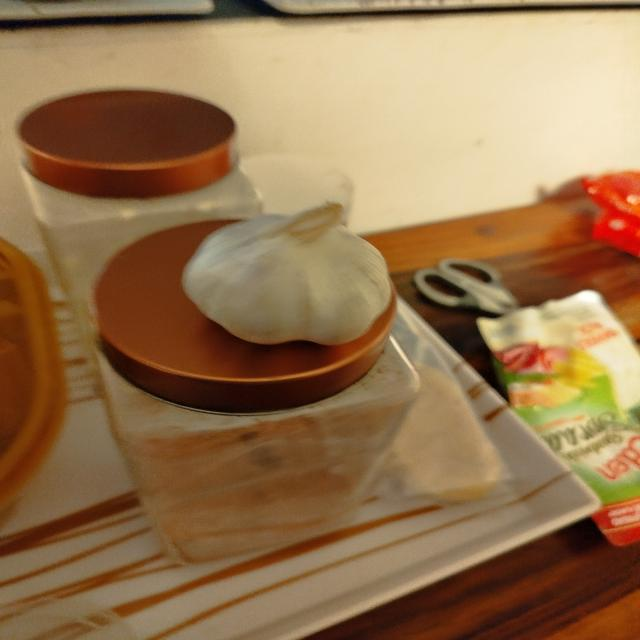garlic: (181, 200, 392, 346)
